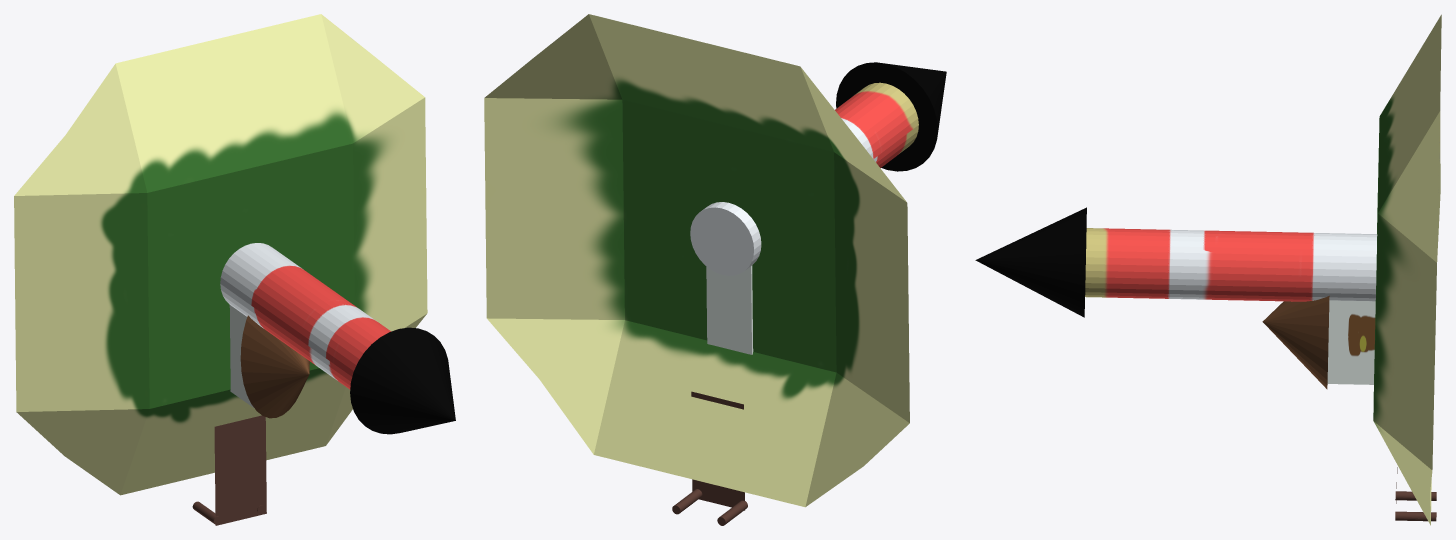
The model's file is island6.glb.
3 renders of one model, left to right at view 1: azimuth 30°, elevation 25°; view 2: azimuth 150°, elevation 25°; view 3: azimuth 270°, elevation 25°, orthographic. The views are drawn at different scales.
Visible parts, largest first — view 1: Plane, Cylinder.002, Cone, Plane.001, Cone.001, Cube; view 2: Plane, Cylinder.002, Cone, Cube, Plane.001; view 3: Plane, Cylinder.002, Cone, Cube, Cone.001.
Boxes of the visible parts, x1,y1,x2,y2 form: Plane: (14,14,427,495); Cylinder.002: (220,243,390,389); Cone: (350,327,455,434); Plane.001: (214,415,266,525); Cone.001: (240,315,309,418); Cube: (229,305,254,408); Plane: (484,14,909,507); Cylinder.002: (690,82,918,275); Cone: (836,62,946,171); Cube: (706,265,753,354); Plane.001: (691,391,744,510); Plane: (1373,14,1441,525); Cylinder.002: (1085,228,1377,301); Cone: (975,207,1086,317); Cube: (1327,300,1375,384); Cone.001: (1262,295,1329,389).
Size of the model in its own units: 8.29 by 8.98 by 8.44.
8 materials, 8 textured.
